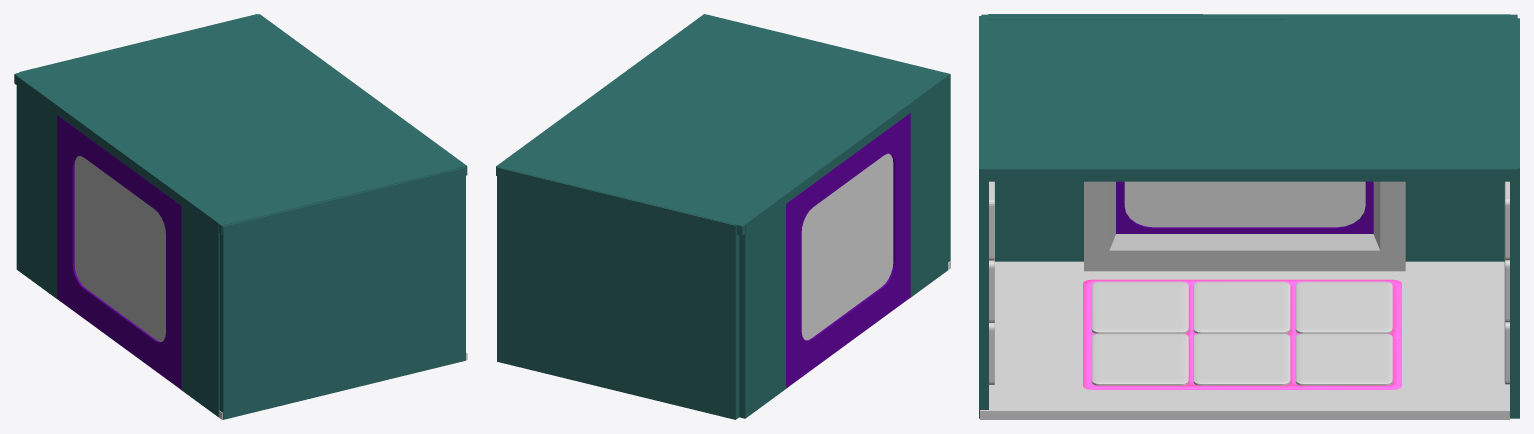
File: habitacion.fbx
The picture shows the model from 3 angles, left to right: view 1: azimuth 30°, elevation 25°; view 2: azimuth 150°, elevation 25°; view 3: azimuth 270°, elevation 25°; orthographic projection. The views are drawn at different scales.
Parts seen in each view (by area): view 1: habitacion; view 2: habitacion; view 3: habitacion.
Part boxes in pixels (x1,y1,x2,y2): habitacion: (14, 14, 467, 419); habitacion: (496, 14, 950, 419); habitacion: (979, 14, 1519, 419).
Bounding box in the file's own units: 2236 × 1688 × 3296.
